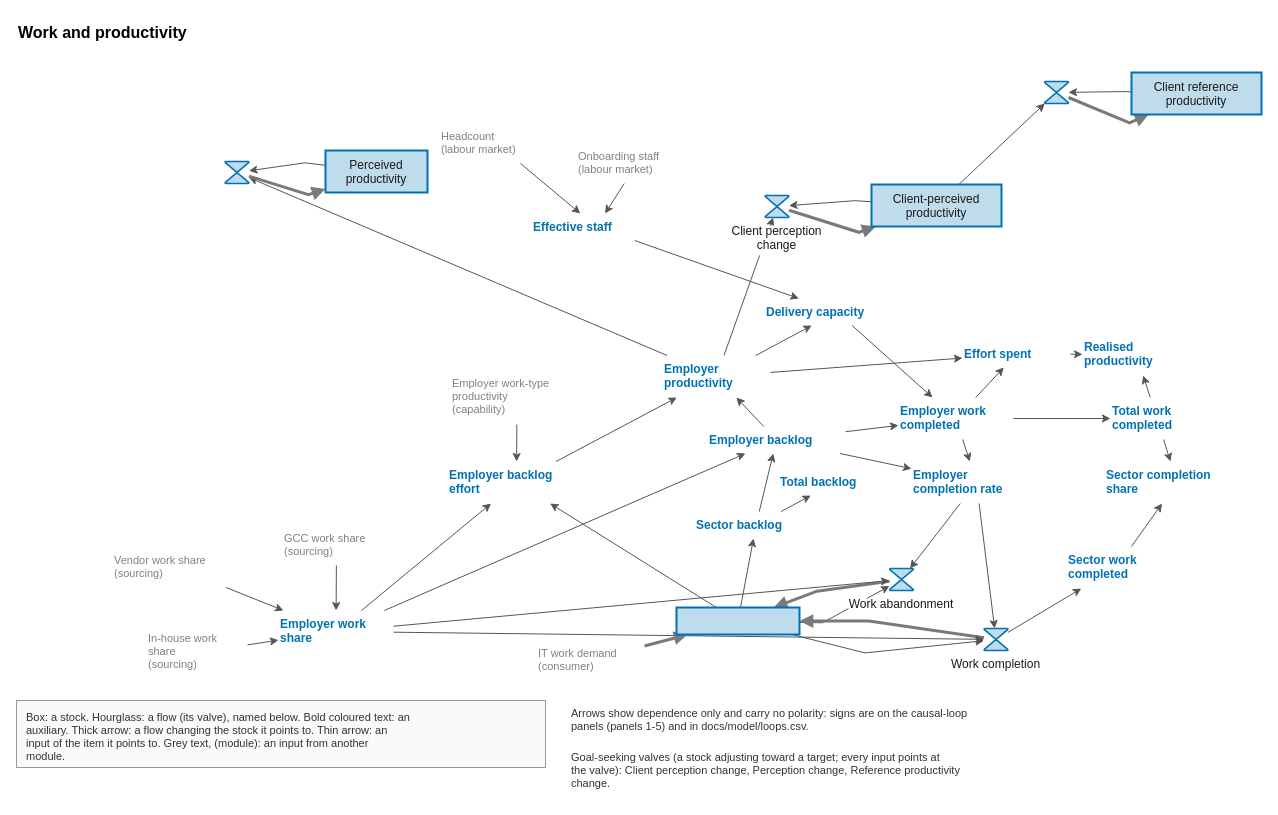
Image size: 1278x815. Some labels were removed from this diagram. The shapes that lost their labels are listed below. From the top down, each one's centre as x and y in pixels, then its label:
At point 1056,92: "Reference productivity change".
At point 236,172: "Perception change".
At point 737,620: "IT work backlog".
